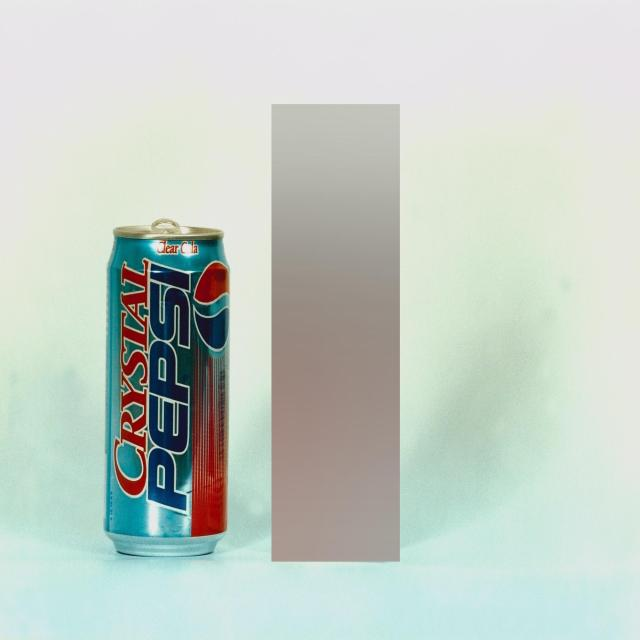tin can: (104, 217, 232, 561)
